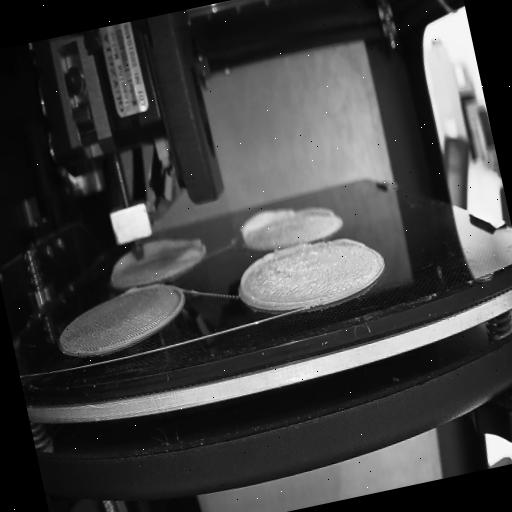over_extrusion: (235, 244, 309, 316), (233, 200, 300, 245), (142, 230, 210, 264), (328, 230, 368, 256), (301, 198, 337, 224), (108, 250, 138, 281), (120, 284, 143, 298)
